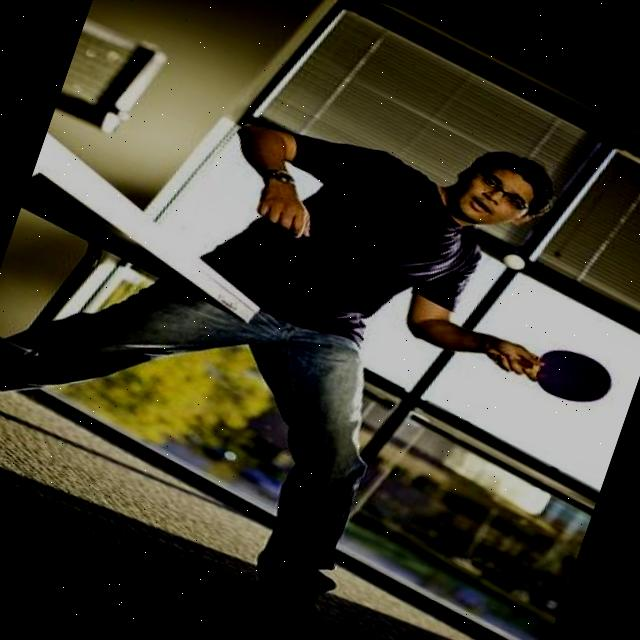ping-pong-ball: (500, 250, 528, 274)
